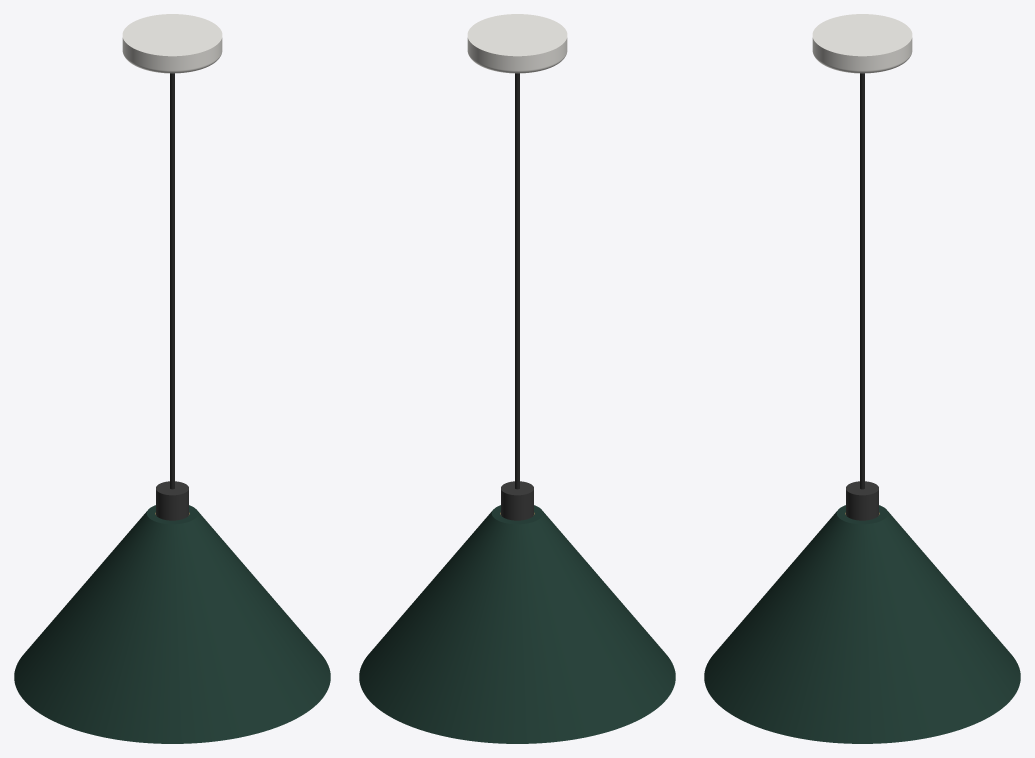
File: pendant_light.glb
3 renders of one model, left to right at view 1: azimuth 30°, elevation 25°; view 2: azimuth 150°, elevation 25°; view 3: azimuth 270°, elevation 25°, orthographic.
Visible parts, largest first — view 1: pendant_light (×4); view 2: pendant_light (×4); view 3: pendant_light (×4).
Boxes of the visible parts, bbox=[...] form: pendant_light (×4): bbox=[14, 14, 330, 743]; pendant_light (×4): bbox=[359, 14, 675, 743]; pendant_light (×4): bbox=[704, 14, 1020, 743].
Bounding box in the file's own units: 0.38 × 0.85 × 0.38.
